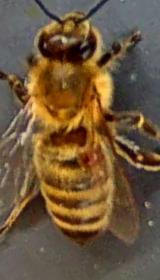varroa_mite: (71, 136, 115, 174)
